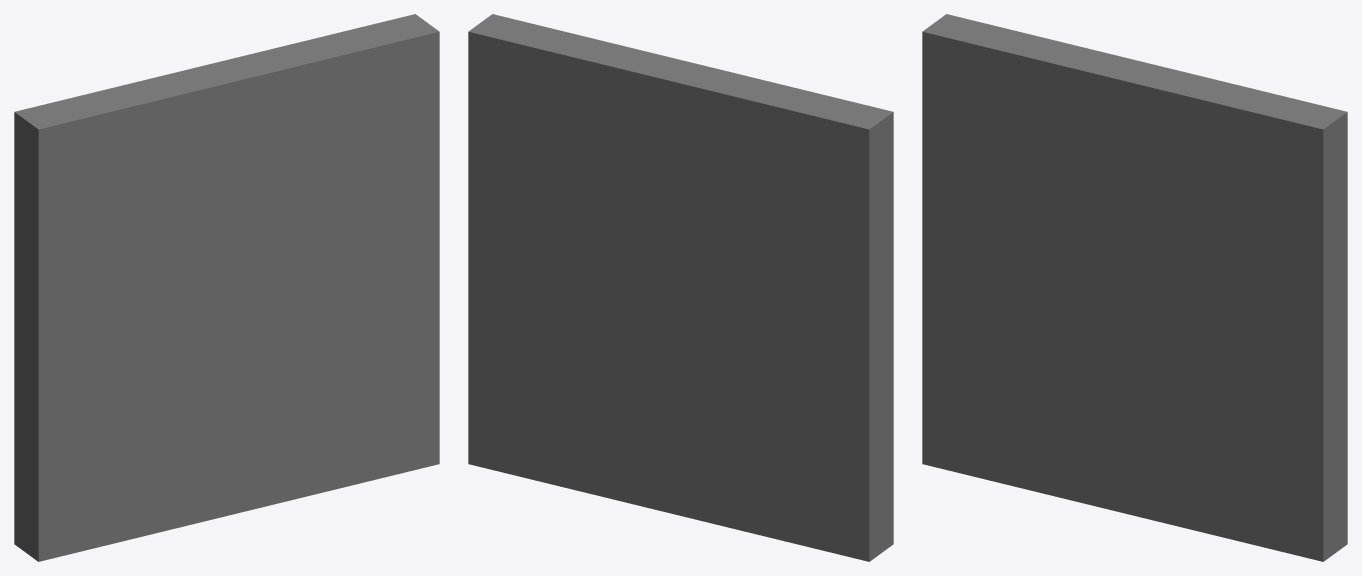
The model's file is q-scifi-mod-door-frame-square-blocked.glb.
3 views of the same model, side by side, from view 1: azimuth 30°, elevation 25°; view 2: azimuth 150°, elevation 25°; view 3: azimuth 330°, elevation 25° (orthographic).
Parts seen in each view (by area): view 1: Door_Frame_Square_Blocked; view 2: Door_Frame_Square_Blocked; view 3: Door_Frame_Square_Blocked.
Boxes of the visible parts, <box> form: Door_Frame_Square_Blocked: <box>14,14,439,561</box>; Door_Frame_Square_Blocked: <box>468,14,893,561</box>; Door_Frame_Square_Blocked: <box>922,14,1347,561</box>.
Bounding box in the file's own units: 4.85 × 5 × 0.5068.
1 material, 1 textured.
